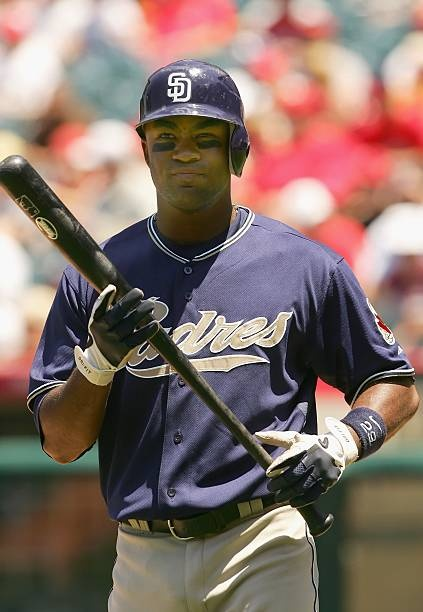bita: (10, 156, 296, 492)
